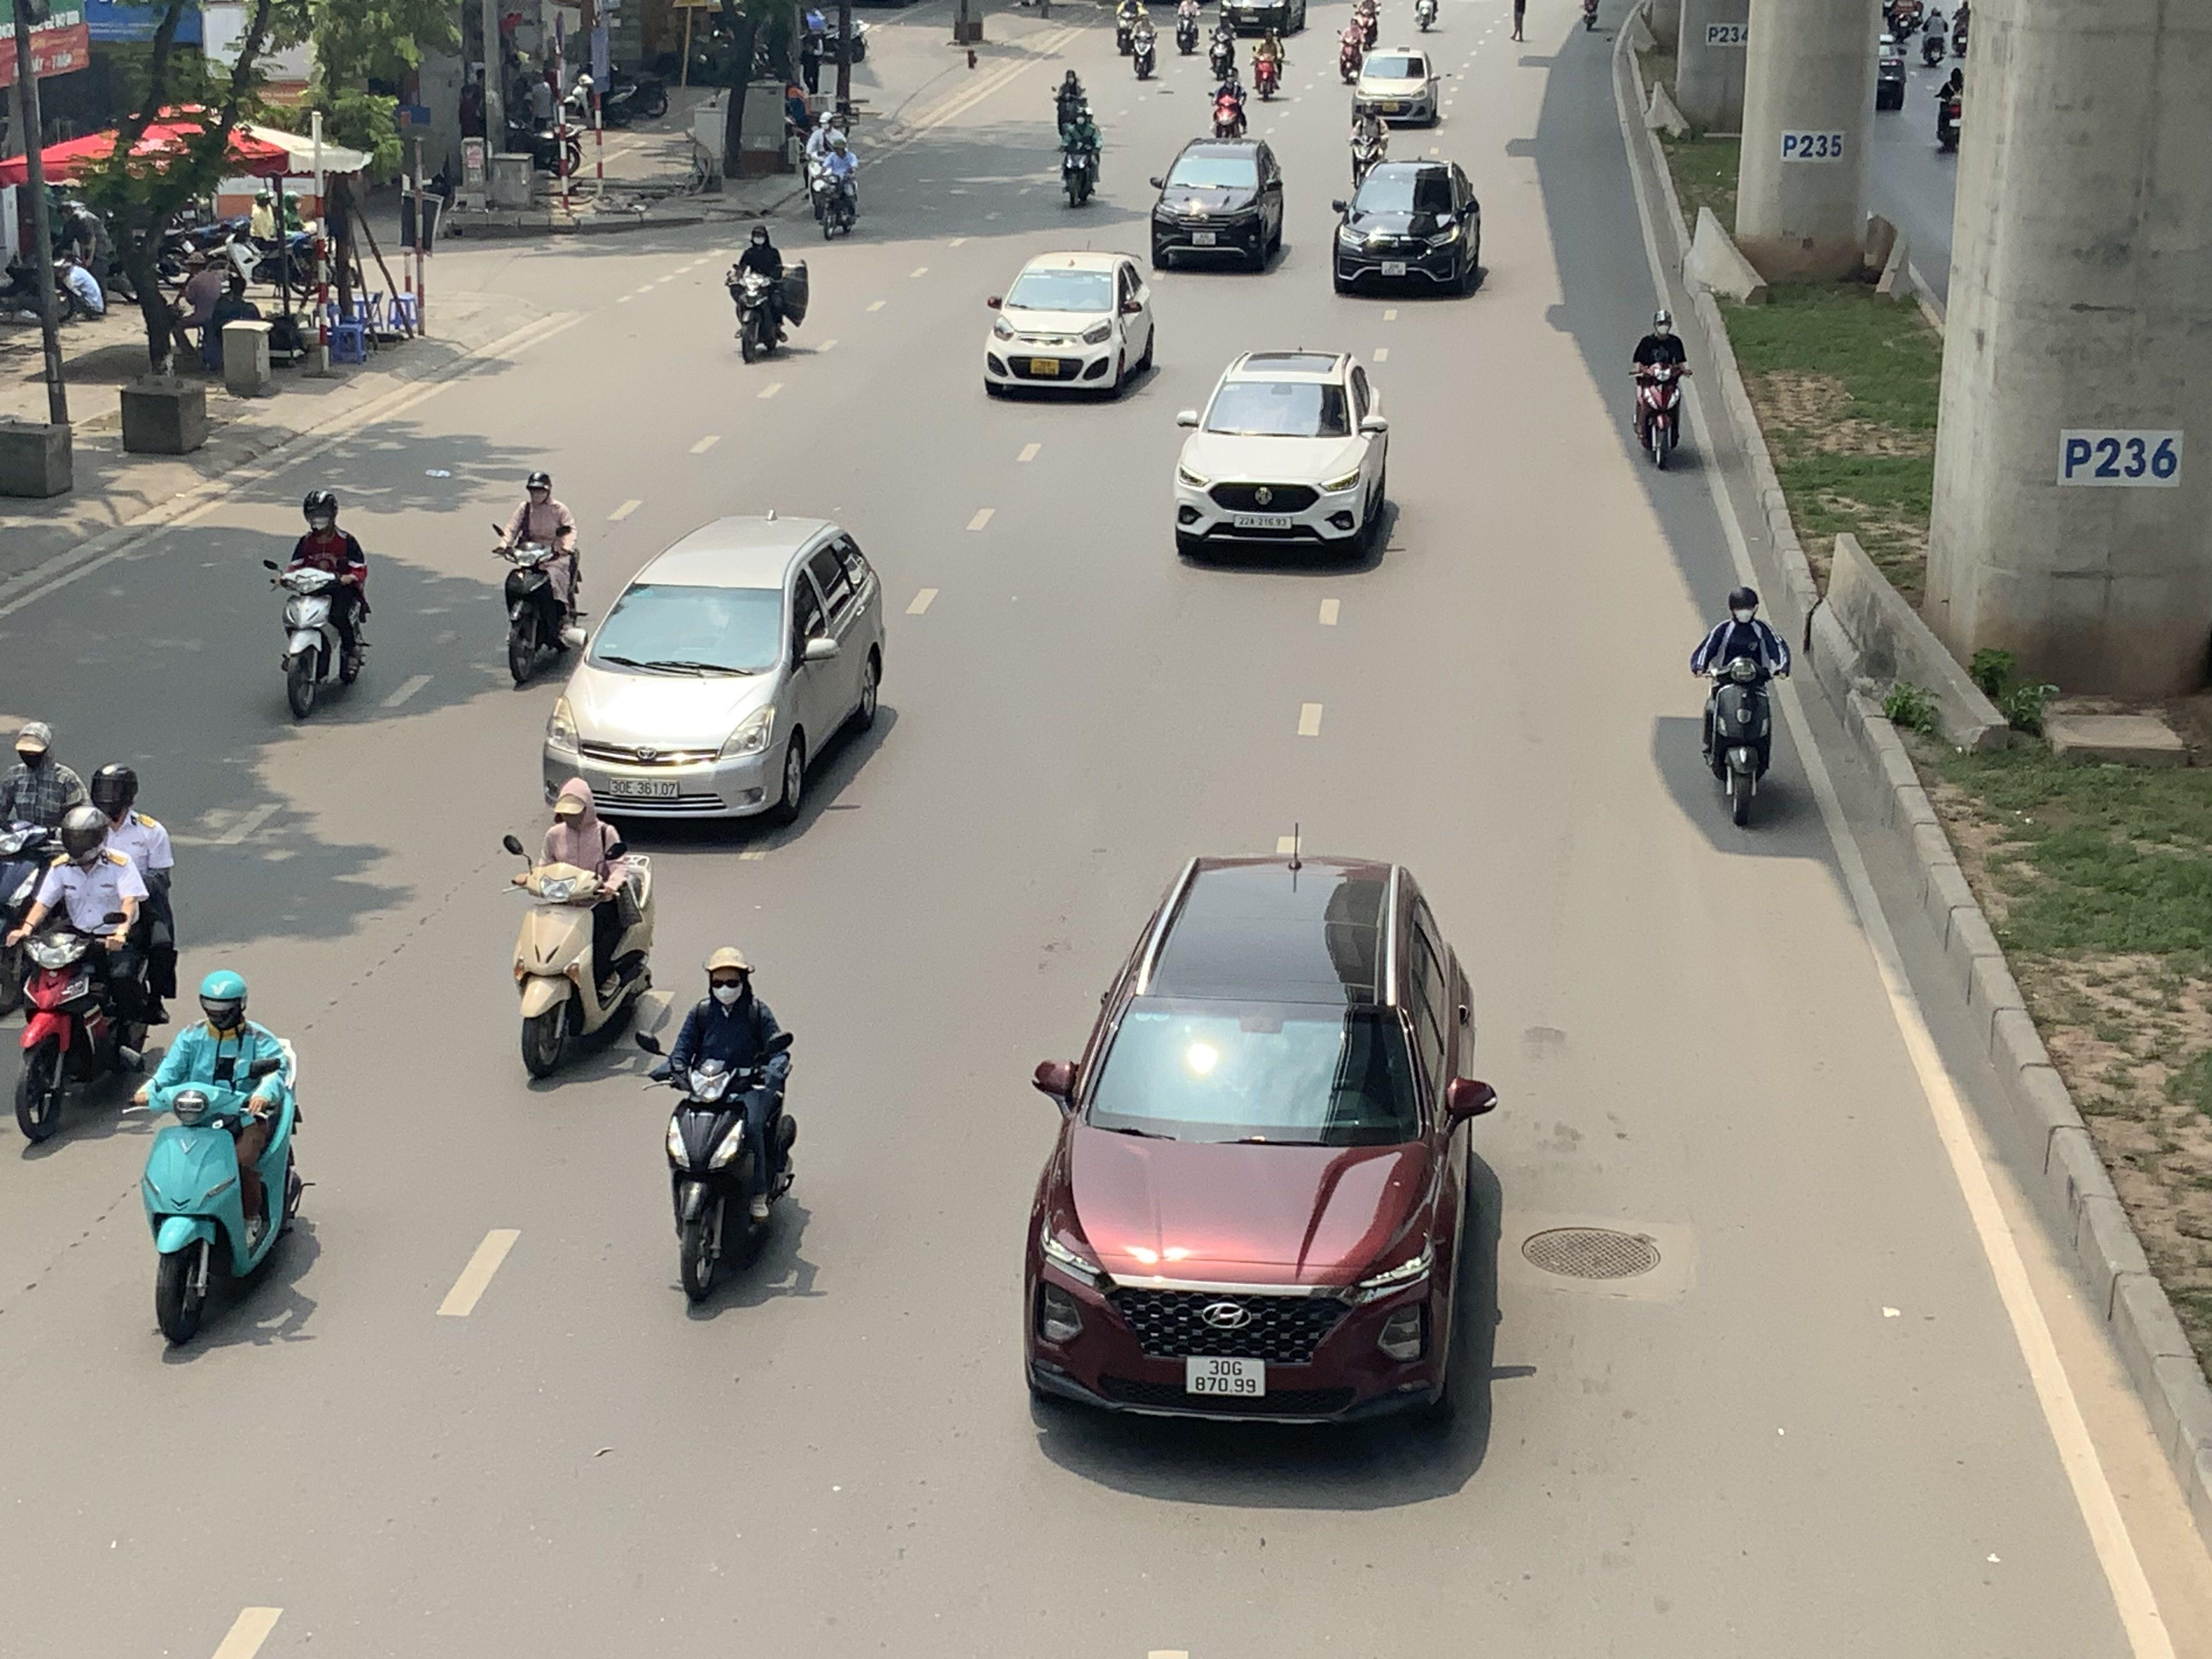BSD: (610, 777, 679, 798), (1233, 514, 1292, 530)
BSV: (1184, 1356, 1268, 1396), (1029, 359, 1059, 375)
car: (1019, 849, 1505, 1438), (540, 514, 887, 830), (1172, 349, 1397, 566), (982, 251, 1158, 401), (1331, 159, 1487, 298), (1148, 138, 1287, 272), (1350, 49, 1447, 127)
motorbike: (136, 967, 310, 1356), (3, 784, 178, 1154), (646, 945, 799, 1309), (503, 775, 658, 1087), (0, 720, 85, 1007), (268, 488, 371, 721), (1693, 586, 1789, 830), (493, 471, 583, 690), (728, 221, 806, 364), (1630, 308, 1689, 471), (815, 141, 862, 242), (1057, 105, 1103, 207), (801, 112, 846, 204), (1346, 92, 1392, 179), (1207, 68, 1249, 143), (1932, 61, 1965, 153), (1052, 64, 1092, 136), (1251, 24, 1287, 101), (1209, 7, 1240, 85), (1336, 12, 1369, 84), (1129, 3, 1160, 78), (1113, 0, 1144, 54), (1174, 0, 1200, 54)
